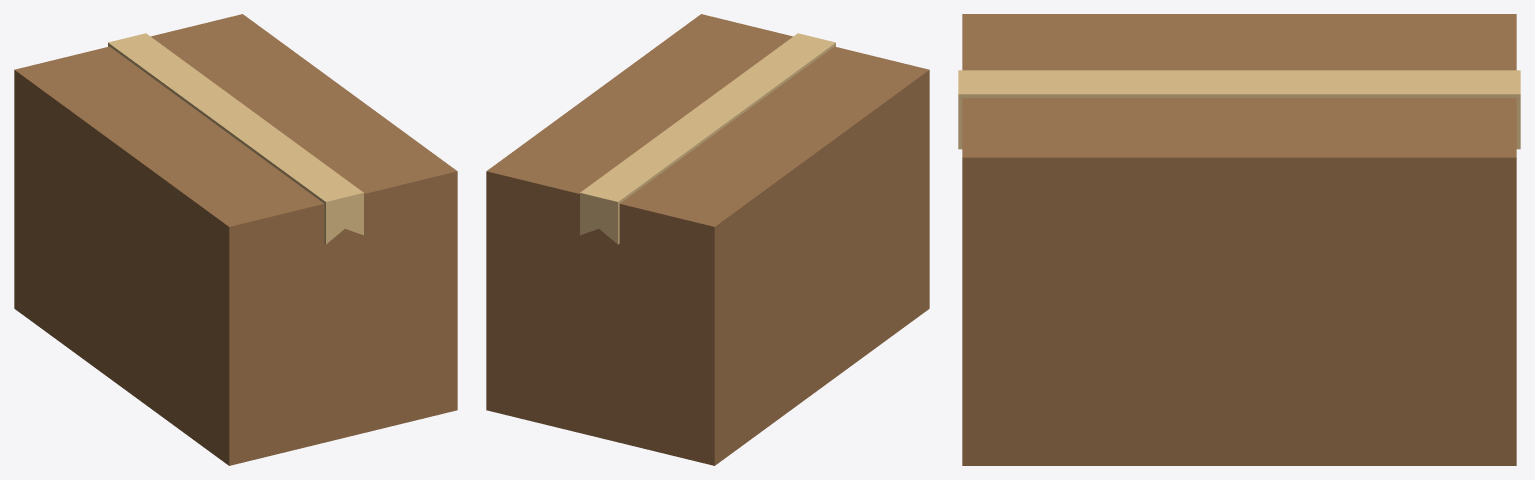
File: StorageBox.fbx
3 views of the same model, side by side, from view 1: azimuth 30°, elevation 25°; view 2: azimuth 150°, elevation 25°; view 3: azimuth 270°, elevation 25° (orthographic). The views are drawn at different scales.
Visible parts, largest first — view 1: Group3, Group2; view 2: Group3, Group2; view 3: Group3, Group2.
Part boxes in pixels (x1,y1,x2,y2): Group3: (14,14,457,465); Group2: (108,33,363,244); Group3: (486,14,929,465); Group2: (580,33,835,244); Group3: (962,14,1516,465); Group2: (958,70,1520,149).
Bounding box in the file's own units: 420 × 425 × 694.
